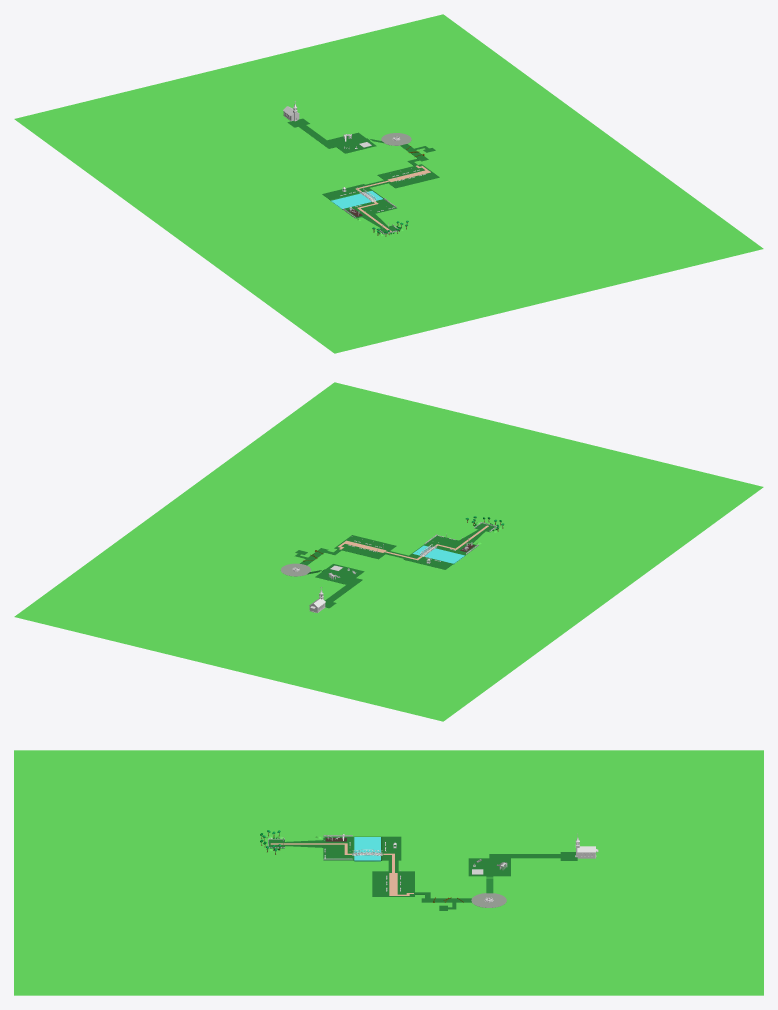
The model's file is blockinglvl2.glb.
3 views of the same model, one above another, from view 1: azimuth 30°, elevation 25°; view 2: azimuth 150°, elevation 25°; view 3: azimuth 270°, elevation 25° (orthographic). The views are drawn at different scales.
Visible parts, largest first — view 1: Mesh Cesped, Plane, Suelo3-col, Suelo5-col; view 2: Mesh Cesped, Plane, Suelo3-col, Suelo5-col; view 3: Mesh Cesped, Plane, Suelo3-col, Suelo5-col, Suelo14-col, Litoral.004.
Part boxes in pixels (bbox=[...]): Mesh Cesped: bbox=[14, 14, 763, 353]; Plane: bbox=[282, 110, 382, 160]; Suelo3-col: bbox=[322, 184, 396, 218]; Suelo5-col: bbox=[377, 164, 439, 188]; Mesh Cesped: bbox=[14, 382, 763, 721]; Plane: bbox=[282, 561, 382, 610]; Suelo3-col: bbox=[403, 535, 478, 569]; Suelo5-col: bbox=[334, 535, 396, 559]; Mesh Cesped: bbox=[14, 750, 763, 995]; Plane: bbox=[459, 850, 582, 878]; Suelo3-col: bbox=[323, 836, 401, 860]; Suelo5-col: bbox=[372, 871, 414, 896]; Suelo14-col: bbox=[468, 858, 510, 876]; Litoral.004: bbox=[354, 837, 380, 861].
Size of the model in its own units: 816 by 49.8 by 1056.
91 materials, 28 textured.
